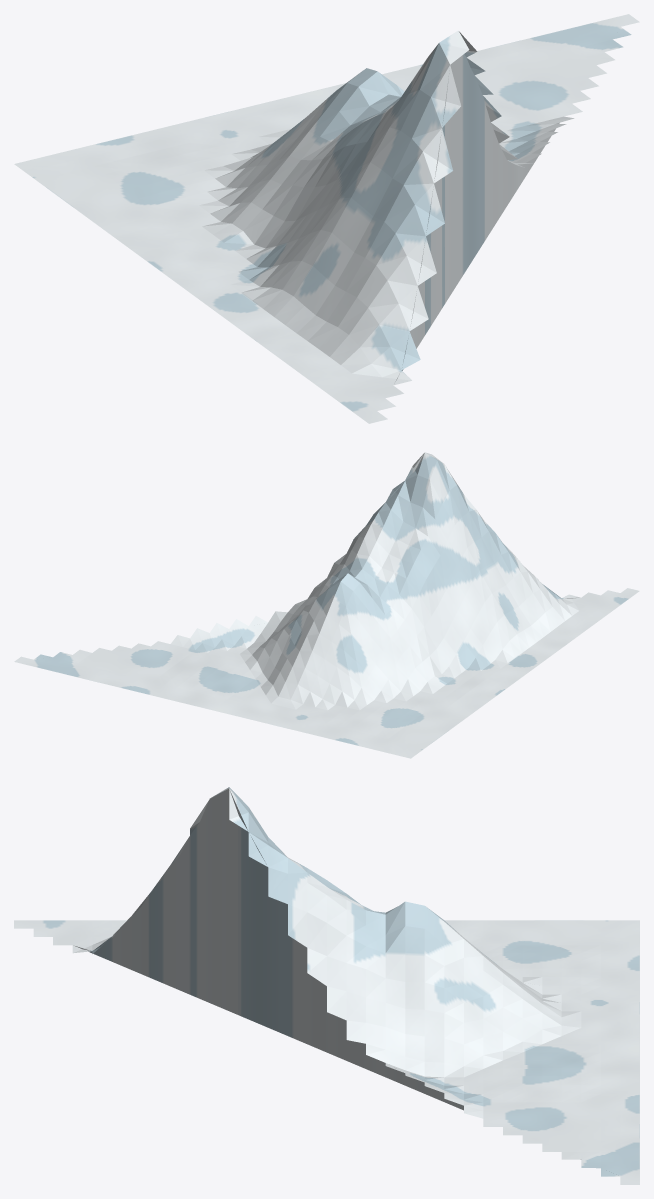
The model's file is Snow_Mountains_05_SW.obj.
3 views of the same model, one above another, from view 1: azimuth 30°, elevation 25°; view 2: azimuth 150°, elevation 25°; view 3: azimuth 270°, elevation 25° (orthographic). The views are drawn at different scales.
Size of the model in its own units: 10 by 3.93 by 10.
1 material, 1 textured.
